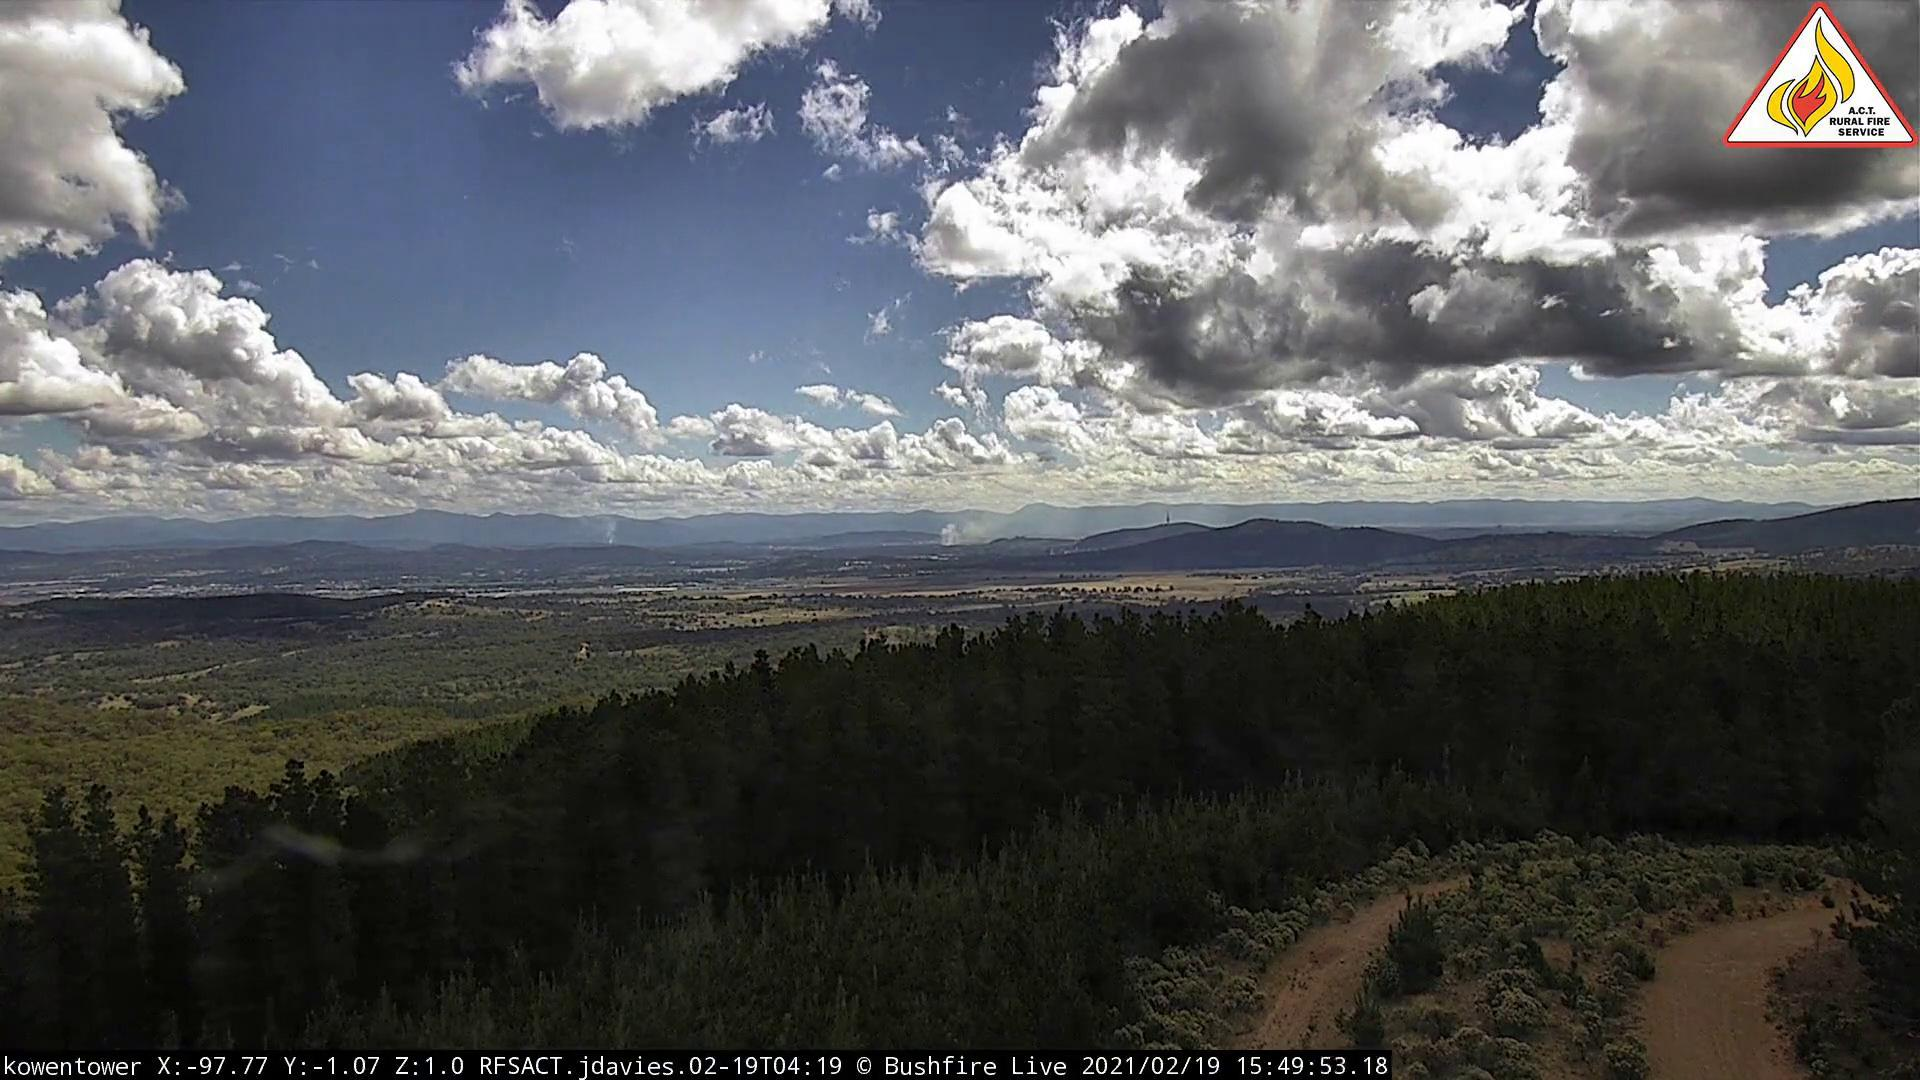instance_salient_object: (932, 505, 1011, 553), (603, 526, 625, 553)
